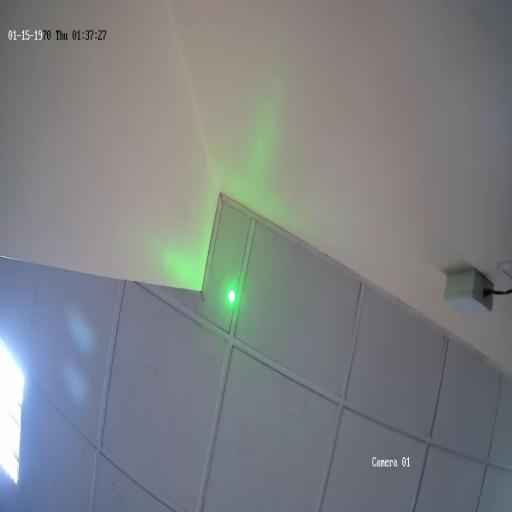laser: (225, 284, 239, 308)
